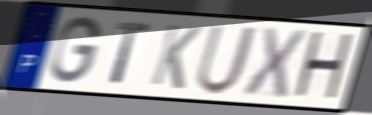G: (48, 15, 103, 85)
H: (290, 29, 357, 106)
K: (147, 22, 203, 92)
T: (108, 19, 152, 87)
U: (193, 23, 261, 97)
X: (240, 25, 309, 100)
